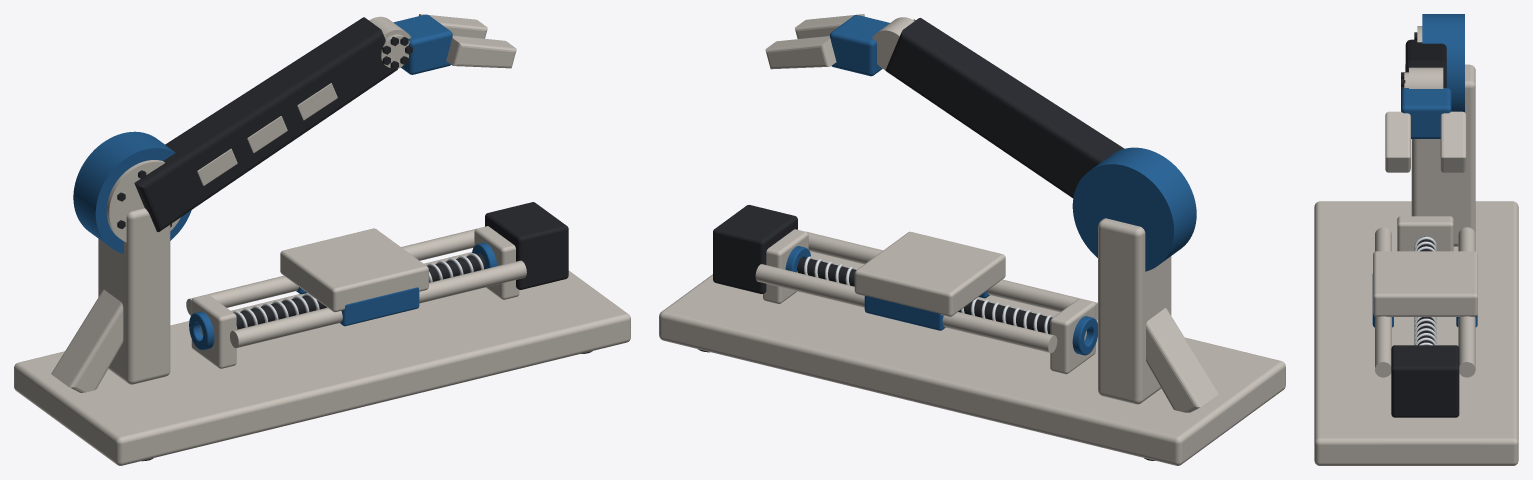
The model's file is anatomy-57.glb.
3 renders of one model, left to right at view 1: azimuth 30°, elevation 25°; view 2: azimuth 150°, elevation 25°; view 3: azimuth 270°, elevation 25°, orthographic. The views are drawn at different scales.
Parts seen in each view (by area): view 1: base, link, tower, slider, joint, rails, motor, screw-support, wrist, jaws, screw; view 2: base, link, tower, slider, joint, rails, motor, screw-support, wrist, jaws, screw; view 3: base, slider, tower, motor, jaws, wrist, rails, joint, screw-support, link, screw.
Boxes of the visible parts, x1=… form: base: x1=14, y1=252, x2=630, y2=465; link: x1=134, y1=17, x2=397, y2=232; tower: x1=51, y1=208, x2=170, y2=392; slider: x1=280, y1=228, x2=428, y2=326; joint: x1=73, y1=131, x2=191, y2=253; rails: x1=186, y1=228, x2=526, y2=348; motor: x1=485, y1=202, x2=568, y2=289; screw-support: x1=189, y1=226, x2=519, y2=368; wrist: x1=369, y1=14, x2=452, y2=74; jaws: x1=419, y1=14, x2=516, y2=68; screw: x1=233, y1=253, x2=485, y2=329; base: x1=659, y1=251, x2=1285, y2=465; link: x1=885, y1=18, x2=1124, y2=198; tower: x1=1098, y1=218, x2=1218, y2=412; slider: x1=854, y1=231, x2=1005, y2=330; joint: x1=1072, y1=147, x2=1196, y2=271; rails: x1=755, y1=231, x2=1097, y2=352; motor: x1=713, y1=205, x2=797, y2=293; screw-support: x1=763, y1=229, x2=1097, y2=374; wrist: x1=830, y1=15, x2=915, y2=76; jaws: x1=765, y1=14, x2=864, y2=69; screw: x1=797, y1=256, x2=1052, y2=334; base: x1=1314, y1=201, x2=1518, y2=465; slider: x1=1372, y1=251, x2=1477, y2=327; tower: x1=1411, y1=64, x2=1475, y2=246; motor: x1=1391, y1=345, x2=1459, y2=417; jaws: x1=1385, y1=111, x2=1466, y2=172; wrist: x1=1401, y1=67, x2=1451, y2=138; rails: x1=1375, y1=227, x2=1475, y2=377; joint: x1=1414, y1=14, x2=1464, y2=112; screw-support: x1=1397, y1=216, x2=1453, y2=251; link: x1=1405, y1=39, x2=1446, y2=87; screw: x1=1414, y1=236, x2=1436, y2=345.
Bounding box in the file's own units: 2.93 × 1.81 × 1.05.
